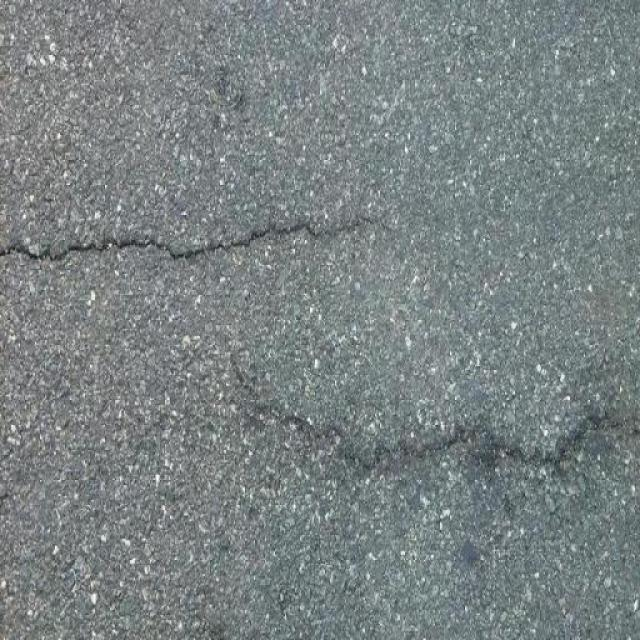Crack: (231, 356, 640, 486), (0, 207, 384, 281)
